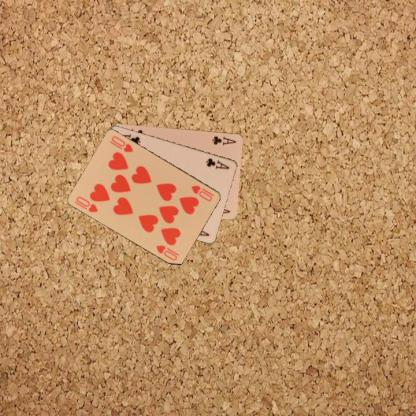10h: (74, 193, 99, 214), (189, 183, 215, 202)
Ac: (210, 133, 237, 147), (204, 156, 231, 170)
